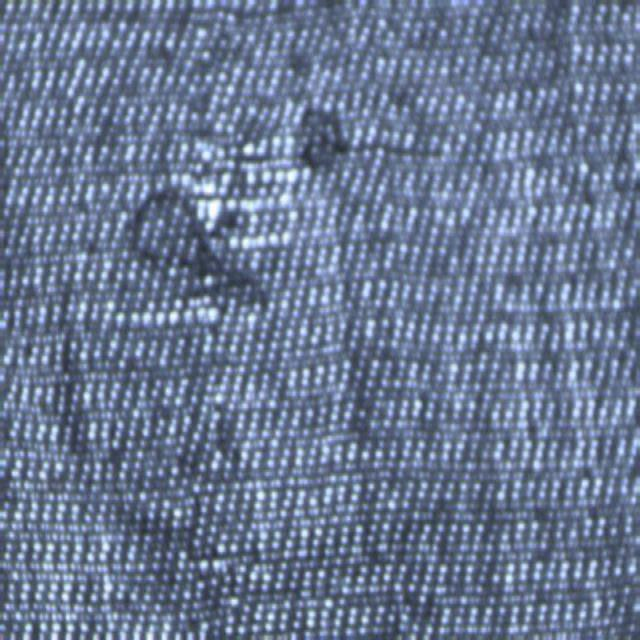pulled_or_thick_thread: (103, 307, 222, 329)
